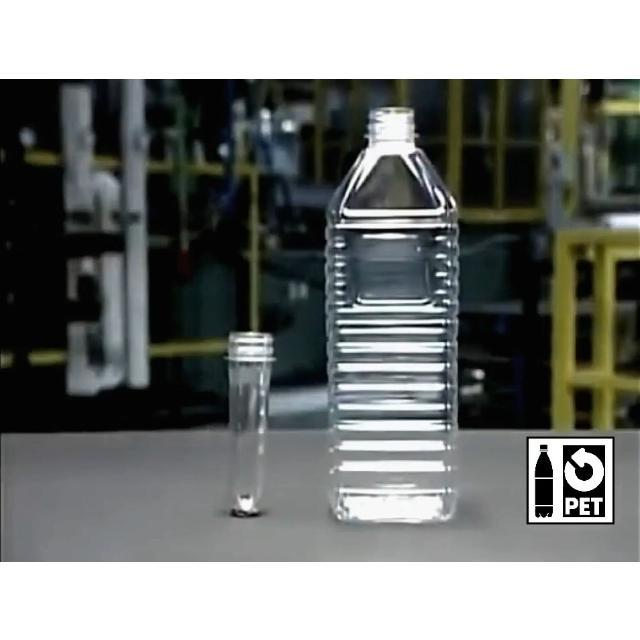Botella de plastico: (326, 108, 459, 522), (230, 331, 274, 518)
